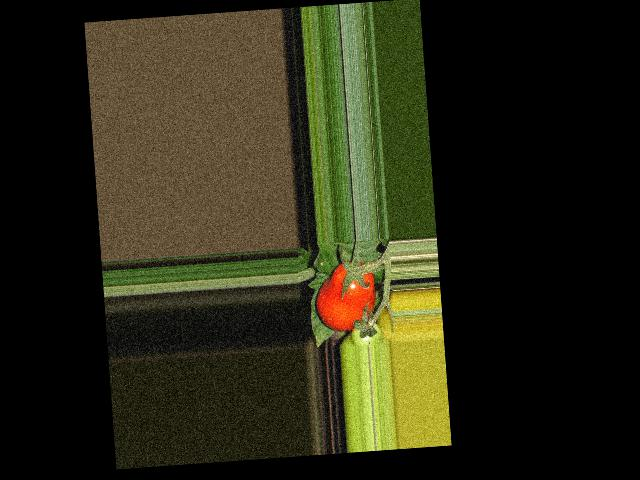tomato: (313, 260, 377, 332)
